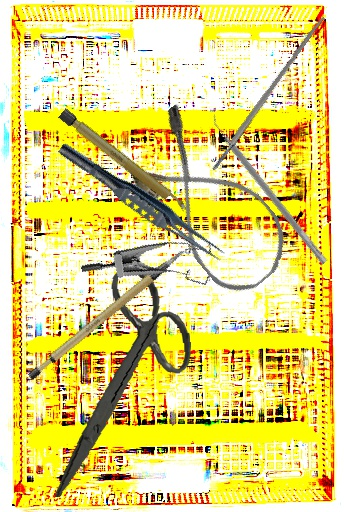Cannula: (110, 100, 304, 306)
Iris Scissors: (31, 261, 206, 498)
Scalpel Handle: (13, 247, 204, 383), (209, 14, 327, 172), (57, 108, 190, 215)
Spatula Surgical: (205, 111, 334, 266)
Speculum: (79, 218, 224, 325)
Tissue Forceps: (52, 138, 231, 267)
